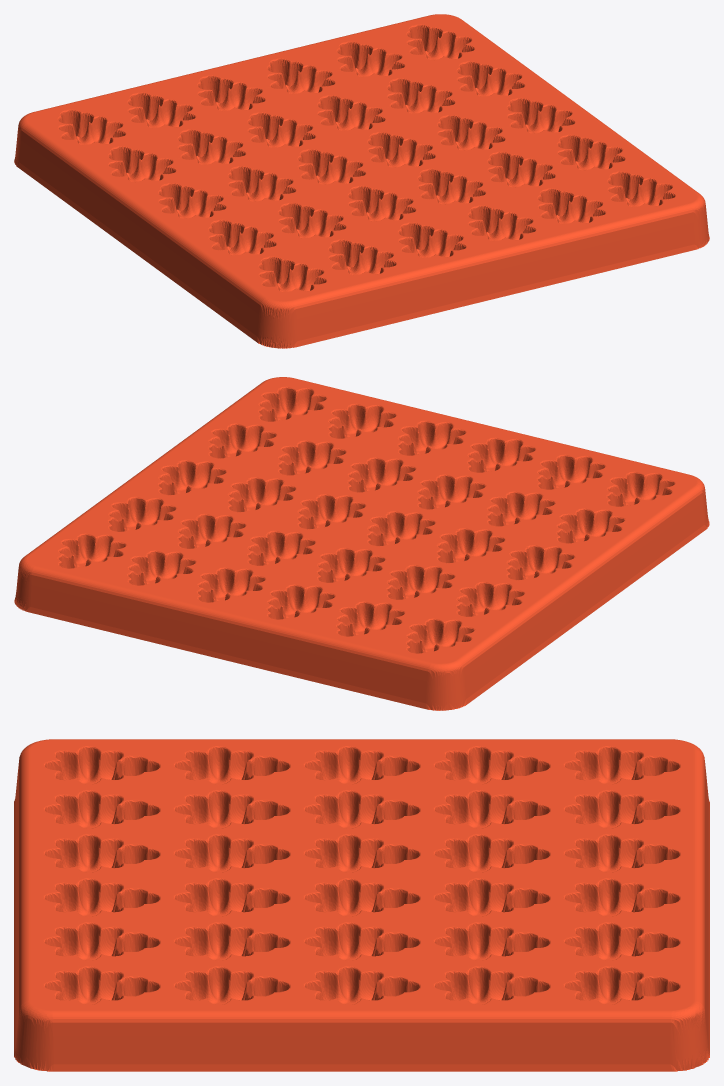
The model's file is mold.glb.
3 renders of one model, top to bottom at view 1: azimuth 30°, elevation 25°; view 2: azimuth 150°, elevation 25°; view 3: azimuth 270°, elevation 25°, orthographic. The views are drawn at different scales.
Visible parts, largest first — view 1: geometry_0; view 2: geometry_0; view 3: geometry_0.
Part boxes in pixels (<box>): geometry_0: <box>14,14,709,348</box>; geometry_0: <box>14,377,709,710</box>; geometry_0: <box>14,739,709,1071</box>.
Bounding box in the file's own units: 0.1526 × 0.0136 × 0.1581.
